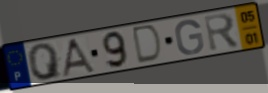9: (99, 29, 130, 70)
A: (60, 37, 98, 79)
D: (132, 23, 164, 66)
G: (173, 18, 206, 56)
Q: (26, 41, 64, 82)
R: (202, 11, 242, 54)
